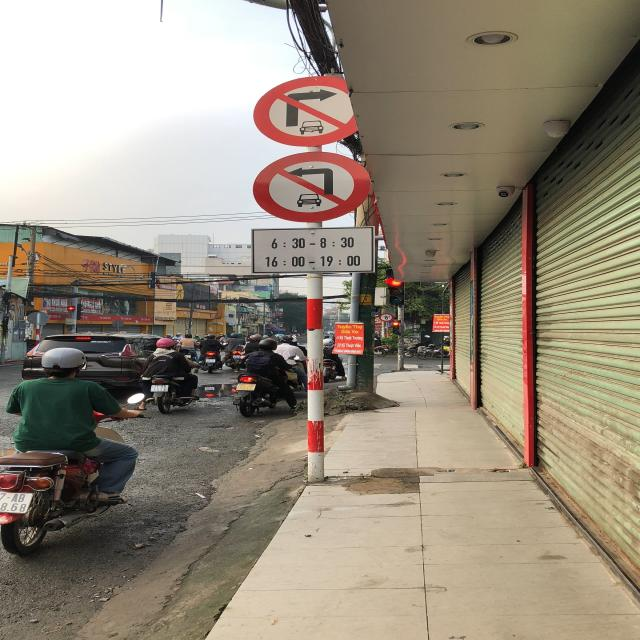Bien bao cam xe o to re phai: (245, 70, 380, 151)
Bien bao cam xe o to re trai: (240, 149, 387, 226)
